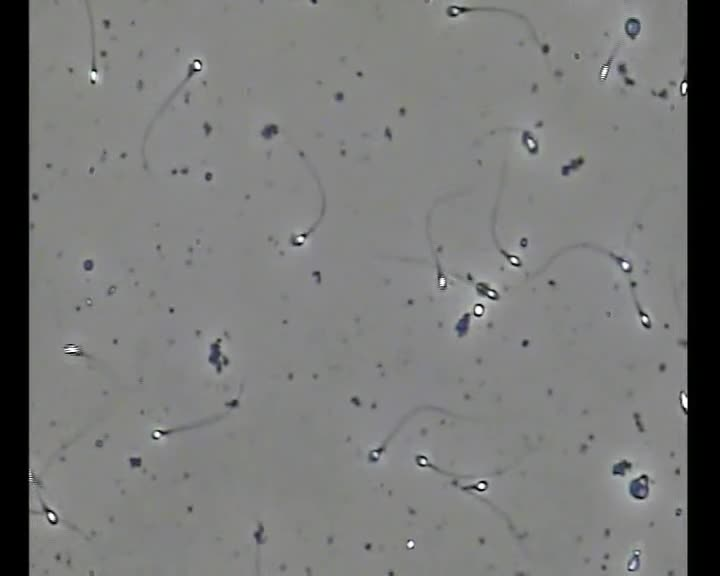spermhead: (629, 474, 649, 500), (610, 252, 633, 273), (521, 130, 538, 154), (455, 312, 471, 336), (624, 16, 640, 39), (463, 479, 488, 493), (611, 459, 631, 476), (503, 251, 522, 267), (43, 506, 59, 525), (626, 549, 639, 572), (252, 521, 265, 544), (446, 4, 467, 18), (188, 58, 205, 75), (63, 343, 85, 356), (88, 66, 101, 86), (289, 232, 307, 246), (151, 427, 169, 441), (415, 453, 431, 468), (368, 446, 383, 462), (437, 271, 448, 290), (639, 311, 651, 328), (472, 302, 485, 317), (679, 389, 687, 413), (599, 61, 609, 80), (485, 286, 498, 300), (224, 398, 238, 408), (680, 77, 687, 95), (519, 235, 528, 249), (86, 296, 94, 308), (407, 539, 415, 550), (29, 471, 35, 485)
